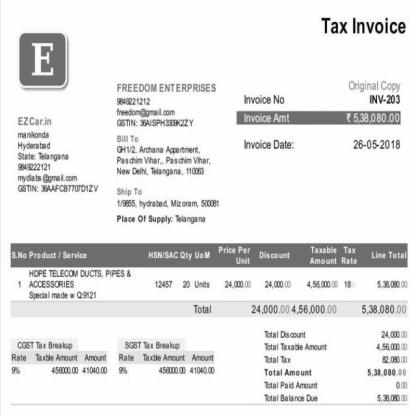Paragraph: (262, 326, 410, 405), (243, 79, 402, 151), (17, 115, 99, 194), (116, 82, 217, 128), (116, 134, 211, 178), (116, 186, 219, 225), (118, 339, 215, 377), (10, 340, 108, 376), (320, 16, 407, 35)
Table: (10, 244, 408, 316)
